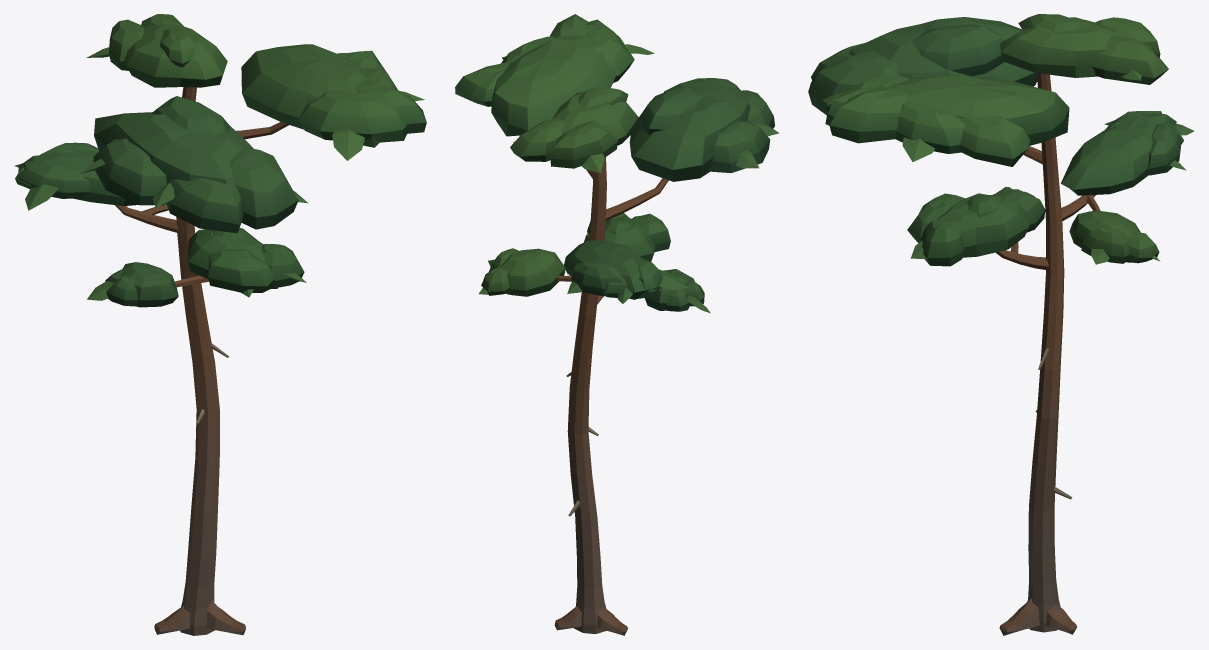
File: pine_open_A.glb
3 renders of one model, left to right at view 1: azimuth 30°, elevation 25°; view 2: azimuth 150°, elevation 25°; view 3: azimuth 270°, elevation 25°, orthographic. The views are drawn at different scales.
Visible parts, largest first — view 1: pine_open_A; view 2: pine_open_A; view 3: pine_open_A.
Boxes of the visible parts, box(x1,y1,x2,y2) form: pine_open_A: box(14, 14, 426, 635); pine_open_A: box(455, 14, 779, 635); pine_open_A: box(808, 14, 1194, 635).
Size of the model in its own units: 8.42 by 15.13 by 8.83.
